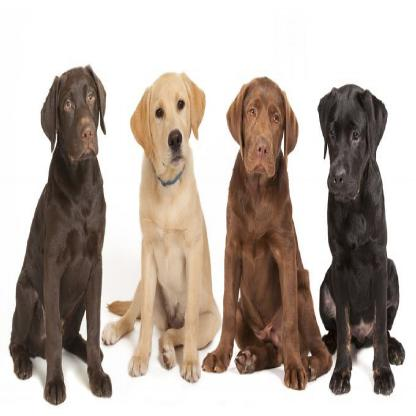dog: (200, 76, 330, 386), (102, 67, 222, 381), (9, 58, 111, 405), (313, 84, 405, 392)
